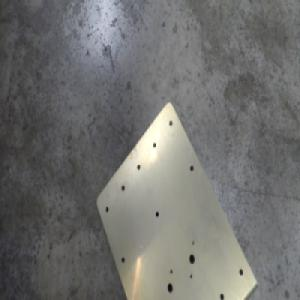MetalSheet: (94, 97, 259, 300)
